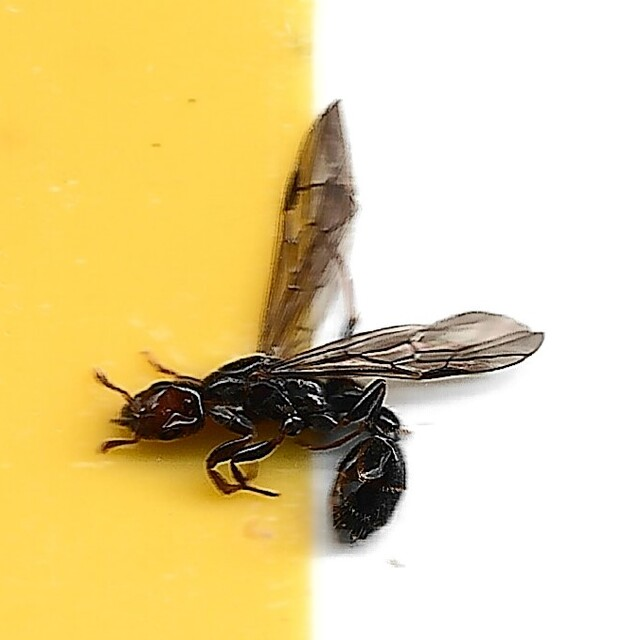Hymenoptera: (95, 94, 545, 546)
